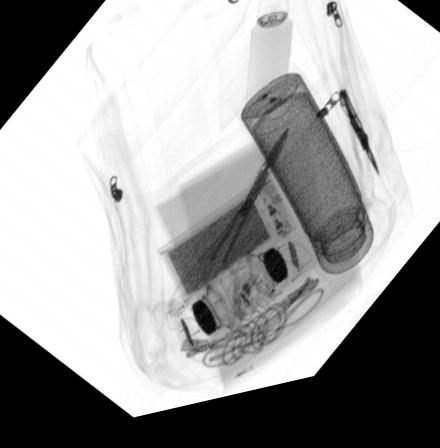Knife: (335, 103, 378, 193)
Powerbank: (154, 187, 297, 315)
Scissors: (182, 138, 288, 303)
Sprayer: (241, 1, 292, 130)
